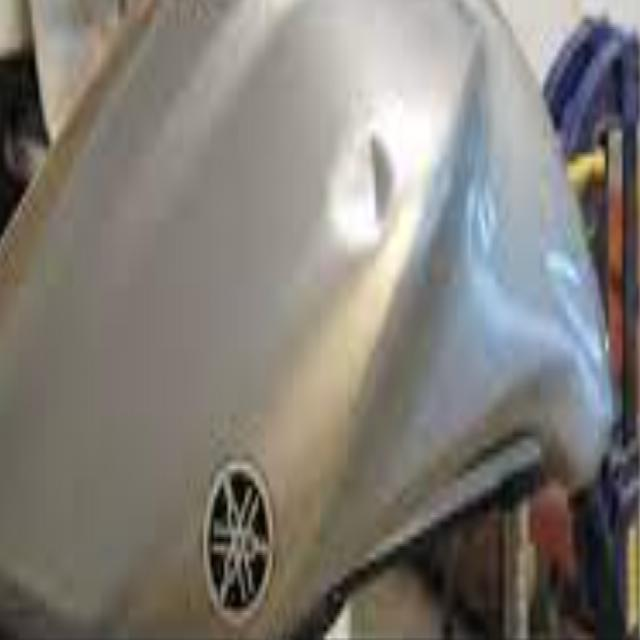dents: (329, 130, 405, 270)
